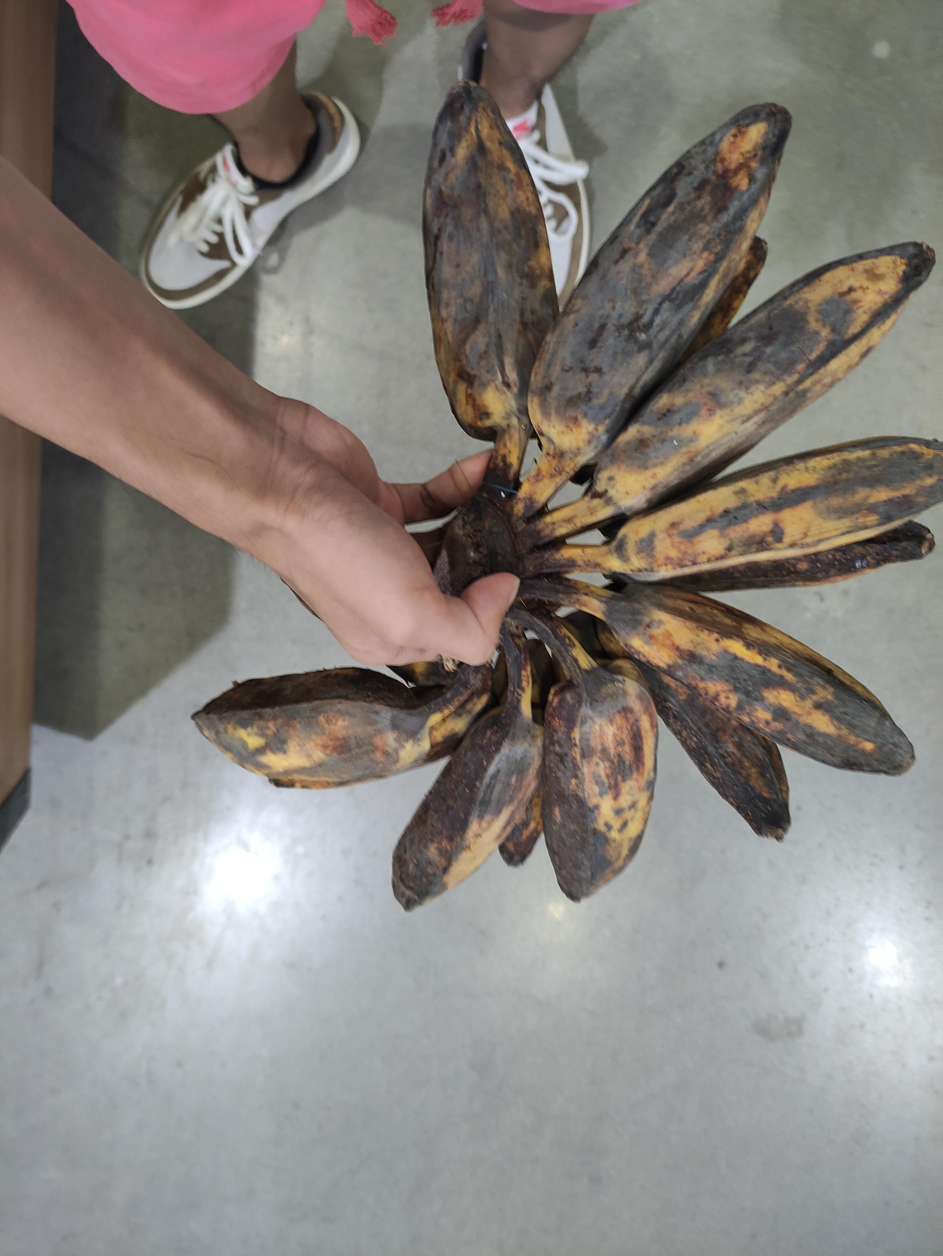overripe: (196, 82, 943, 909)
